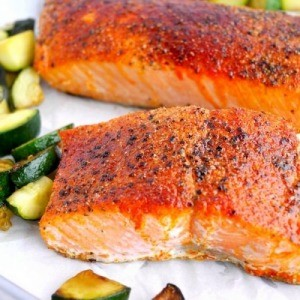salmon_brain food: (63, 157, 267, 242), (114, 28, 291, 91)
